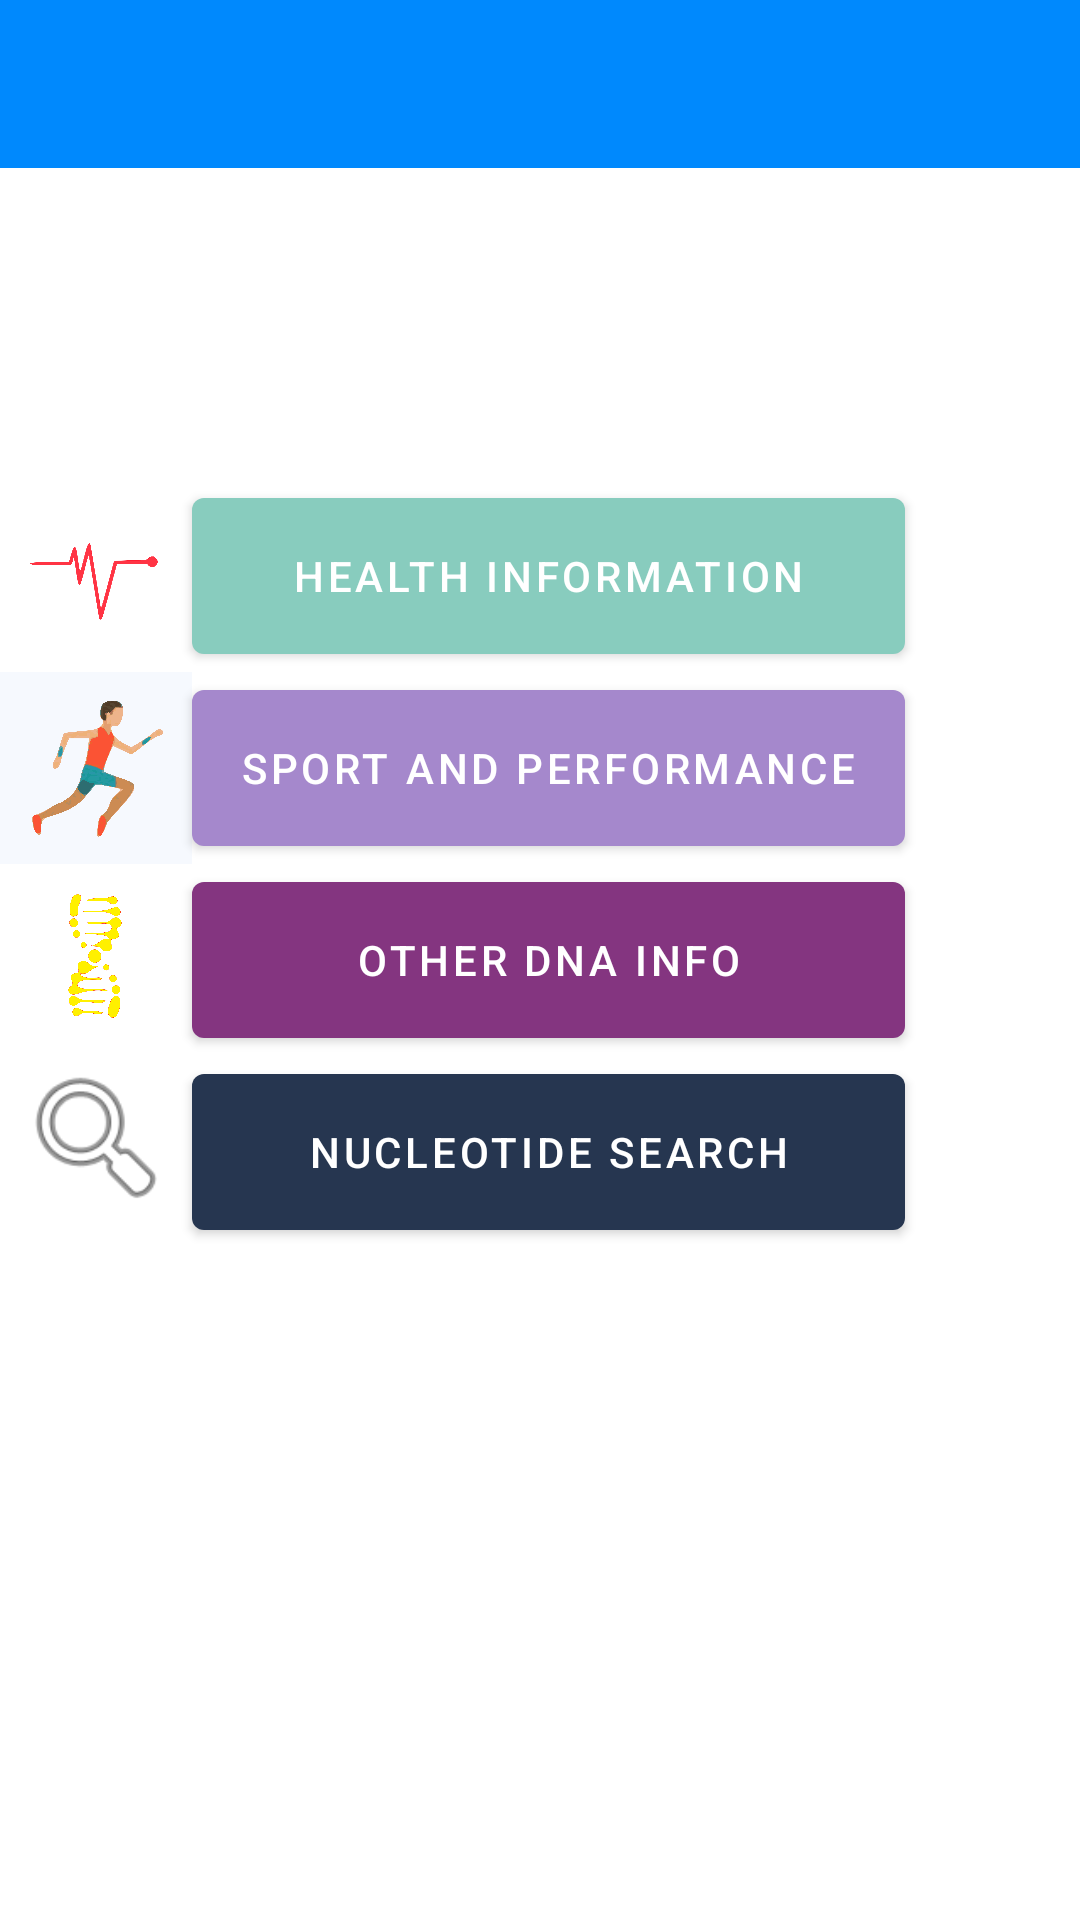

Named icons in this screenshot (1080x1920) and their centers, (x=x, y=y):
fitness: (x=96, y=768)
